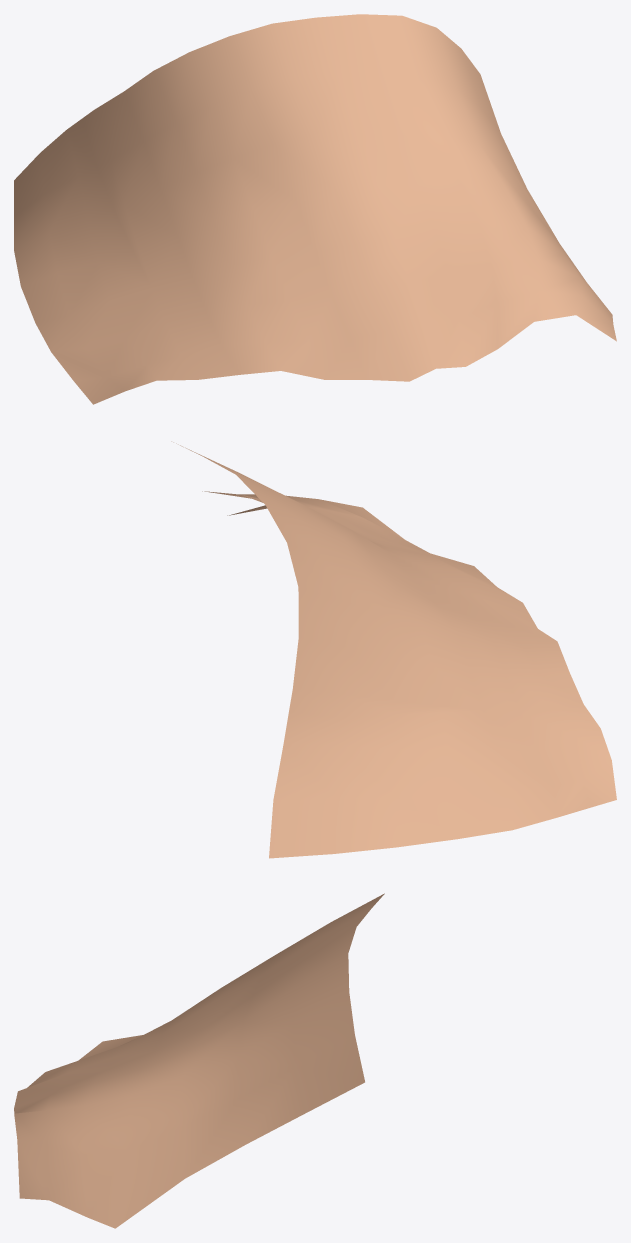
Rendered from metatarsal-region-r.glb.
3 renders of one model, top to bottom at view 1: azimuth 30°, elevation 25°; view 2: azimuth 150°, elevation 25°; view 3: azimuth 270°, elevation 25°, orthographic. The views are drawn at different scales.
Visible parts, largest first — view 1: Metatarsal region.r; view 2: Metatarsal region.r; view 3: Metatarsal region.r.
Part boxes in pixels (x1,y1,x2,y2): Metatarsal region.r: (14,14,616,404); Metatarsal region.r: (171,441,616,858); Metatarsal region.r: (14,893,384,1228).
Size of the model in its own units: 0.0863 by 0.0493 by 0.0995.
